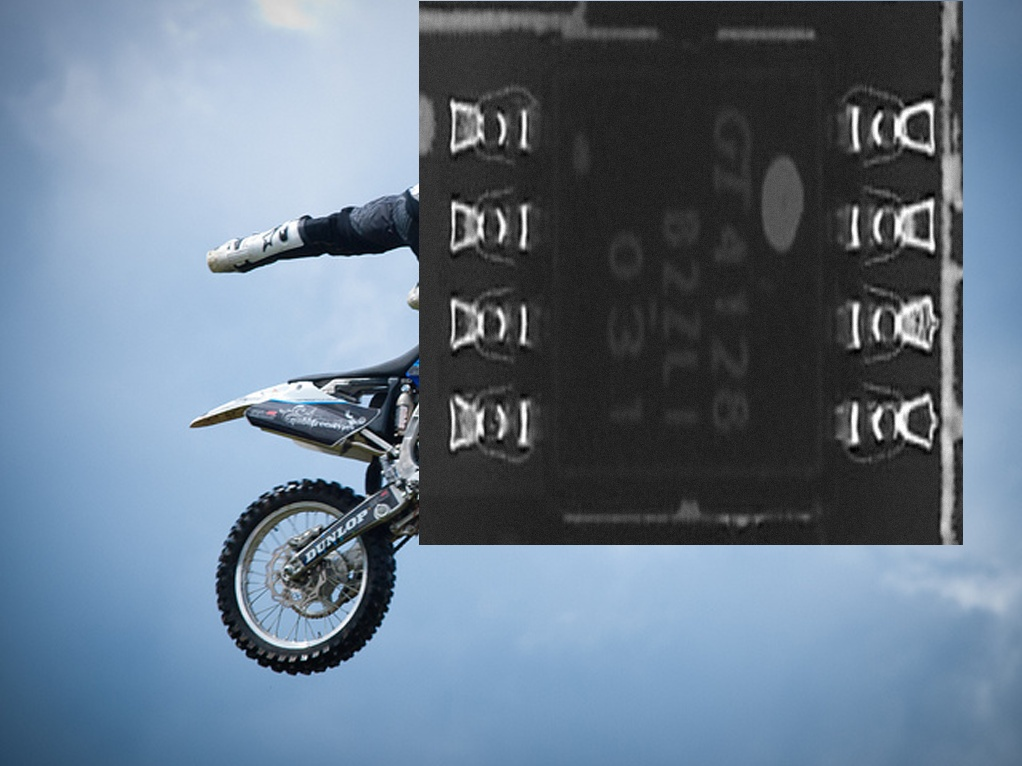PAD: (807, 54, 947, 496), (430, 54, 568, 495)
motorcycle: (185, 164, 785, 678)
